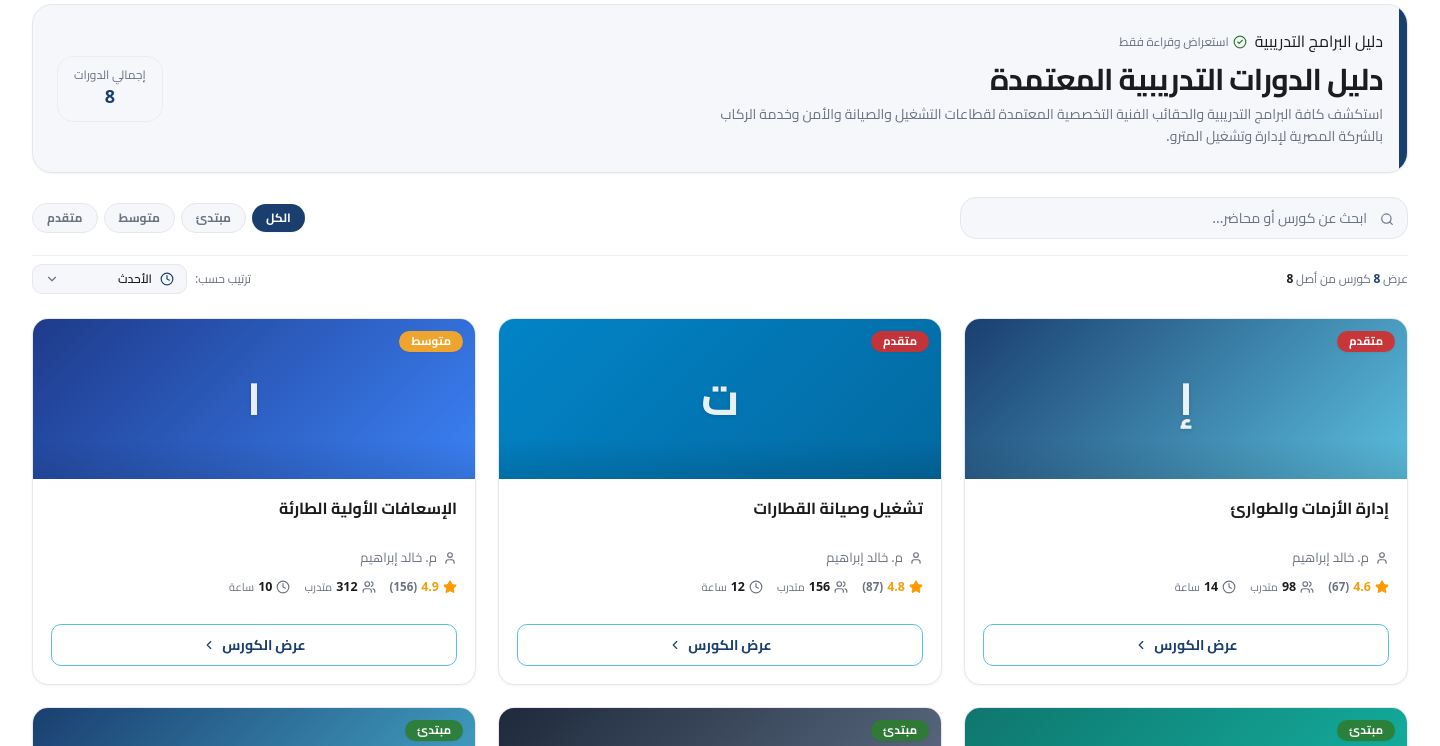
Test: Increment 4: Course Catalog & Course Details (Read-Only) Verification › Course Catalog Page (/courses) › handles empty search results with helpful message and filter reset action
The width and height of the screenshot is (1440, 746).
In the search field named "البحث في الدورات التدريبية": (1184, 218) [960,197,1408,239], type "مصطلح غير موجود نهائيا 999"
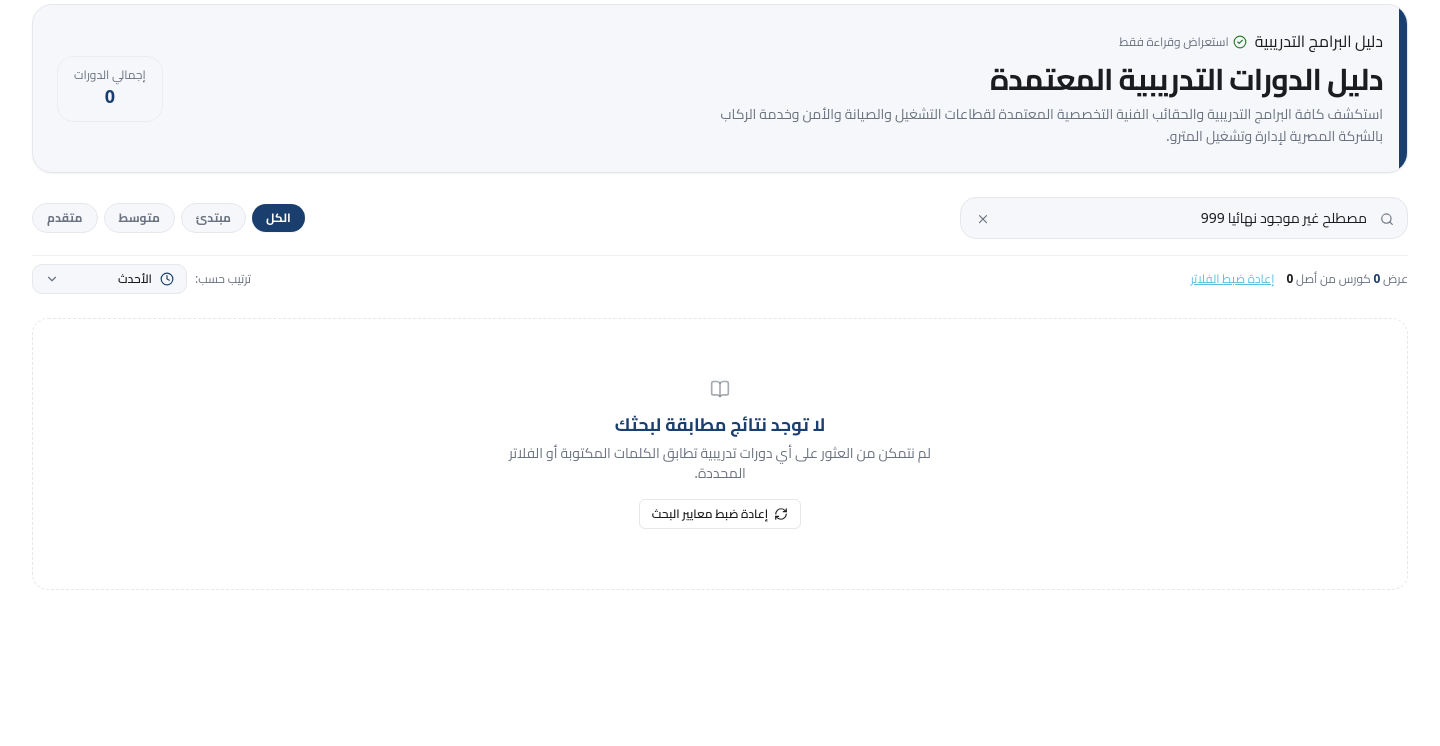
Check: the element with test id "courses-empty-state" is shown, box [32,318,1408,590]
Check: the heading "لا توجد نتائج مطابقة لبحثك" is shown, box [615,408,825,441]
// Click reset button
Click the button "إعادة ضبط معايير البحث": (720, 514) [639,499,801,529]
(page scrolled)
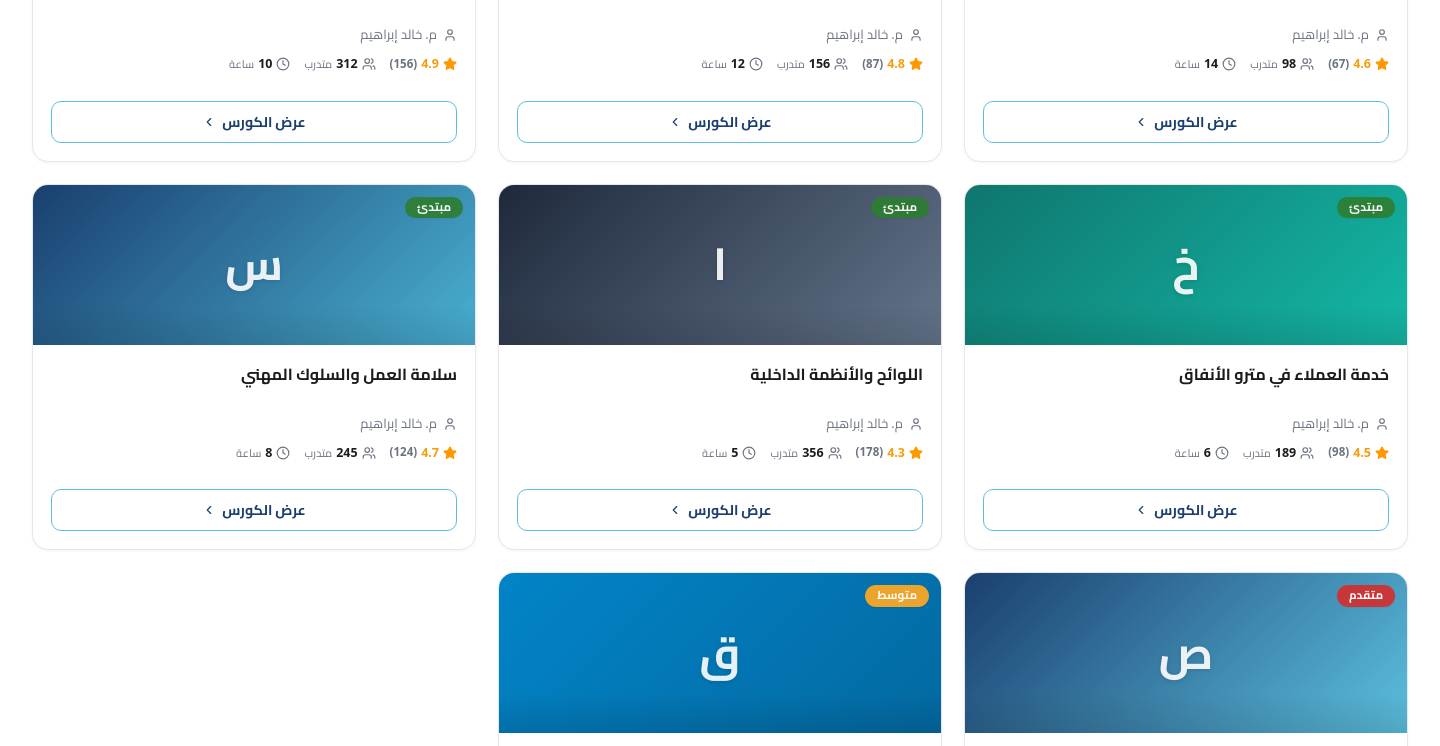
Check: the heading "سلامة العمل والسلوك المهني" is shown, box [241,359,457,389]
